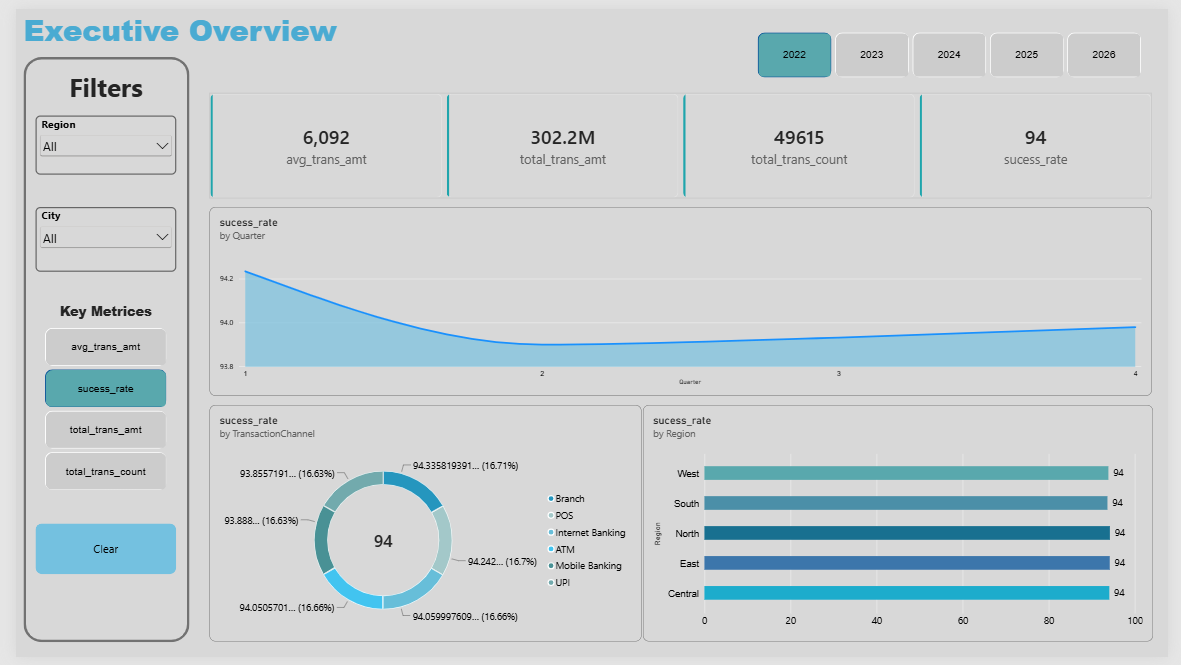

The dashboard page shown, as its layout file describes it:
{"tool":"powerbi","page":{"name":"Executive Overview","canvas":[1920,1080],"ordinal":0},"visuals":[{"type":"textbox","box":[10,0,280,280],"z":0},{"type":"advancedSlicerVisual","fields":{"Values":["Parameter.Parameter"]},"box":[32.8,518.2,234.4,302.4],"z":0,"group":"g1"},{"type":"shape","box":[11.7,79.7,276.6,975.3],"z":1000},{"type":"textbox","box":[32.8,487.7,234.4,30.5],"z":1000,"group":"g1"},{"type":"textbox","box":[11.7,0,1155.8,82.1],"z":2000},{"type":"cardVisual","fields":{"Data":["measure.avg_trans_amt","measure.total_trans_amt","measure.total_trans_count","measure.sucess_rate"]},"box":[323.5,140.7,1570.4,175.7],"z":3000},{"type":"areaChart","fields":{"Category":["dim_date.MonthName","dim_date.Quarter"],"Y":["measure.sucess_rate"]},"box":[323.5,330.6,1570.4,314.6],"z":4000},{"type":"advancedSlicerVisual","fields":{"Values":["dim_date.Year"]},"box":[1219.1,25.8,675.2,105.5],"z":5000},{"type":"donutChart","fields":{"Category":["fact_transaction.TransactionChannel"],"Y":["measure.sucess_rate"]},"box":[323.5,661.1,719.8,393.9],"z":6000},{"type":"clusteredBarChart","fields":{"Category":["dim_branch.Region"],"Y":["measure.sucess_rate"]},"box":[1044,661,850,394],"z":7000},{"type":"group","id":"g1","title":"Group 1","box":[32.8,487.7,234.4,332.9],"z":8000},{"type":"slicer","fields":{"Values":["dim_branch.City"]},"box":[32.8,330.6,234.4,107.8],"z":9000},{"type":"slicer","fields":{"Values":["dim_branch.Region"]},"box":[32.8,178.2,234.4,98.5],"z":10000},{"type":"actionButton","box":[32.8,858.1,234.4,84.4],"z":11000},{"type":"textbox","box":[32.8,100.8,234.4,77.4],"z":11001}]}

Visuals, with their boxes in screenshot pixels (x1, y1, x2, y2), scaled from the page's 1920x1080 canvas onto the 1181x665 screenshot:
textbox: select_region(6, 0, 178, 172)
advancedSlicerVisual - Parameter.Parameter: select_region(20, 319, 164, 505)
shape: select_region(7, 49, 177, 650)
textbox: select_region(20, 300, 164, 319)
textbox: select_region(7, 0, 718, 51)
cardVisual - measure.avg_trans_amt x measure.total_trans_amt: select_region(199, 87, 1165, 195)
areaChart - dim_date.MonthName x dim_date.Quarter: select_region(199, 204, 1165, 397)
advancedSlicerVisual - dim_date.Year: select_region(750, 16, 1165, 81)
donutChart - fact_transaction.TransactionChannel x measure.sucess_rate: select_region(199, 407, 642, 650)
clusteredBarChart - dim_branch.Region x measure.sucess_rate: select_region(642, 407, 1165, 650)
"Group 1" group: select_region(20, 300, 164, 505)
slicer - dim_branch.City: select_region(20, 204, 164, 270)
slicer - dim_branch.Region: select_region(20, 110, 164, 170)
actionButton: select_region(20, 528, 164, 580)
textbox: select_region(20, 62, 164, 110)
